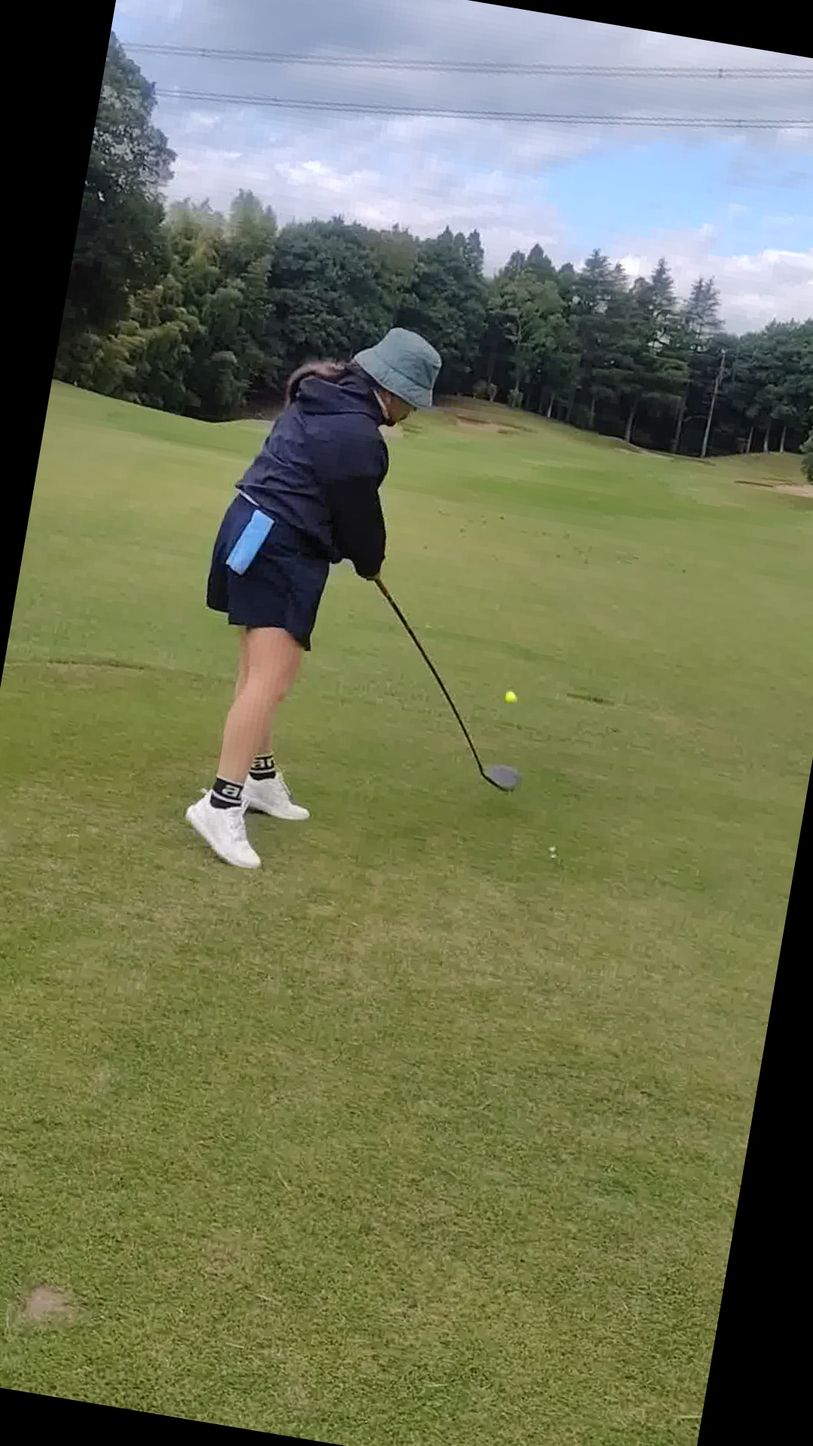clubhead: (290, 633, 655, 955)
